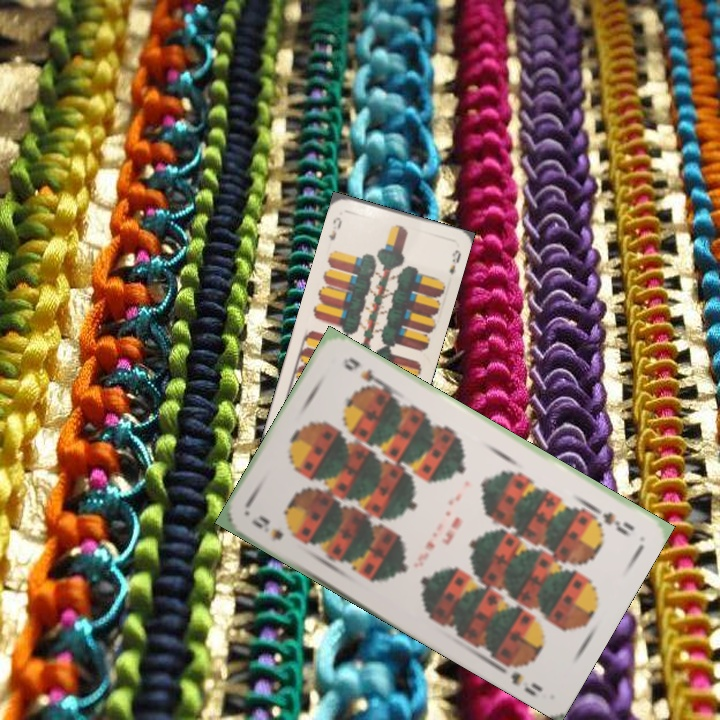E9: (324, 213, 345, 243)
S9: (585, 501, 637, 537), (247, 511, 286, 544)
